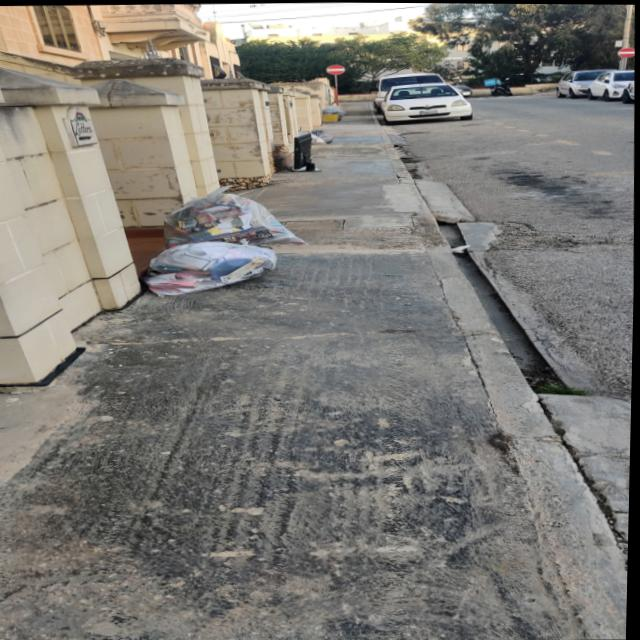Others Waste: (290, 131, 320, 171), (323, 113, 338, 121)
Recyclable Material -Grey Bags-: (147, 193, 313, 296), (299, 130, 335, 144), (322, 105, 346, 120)
